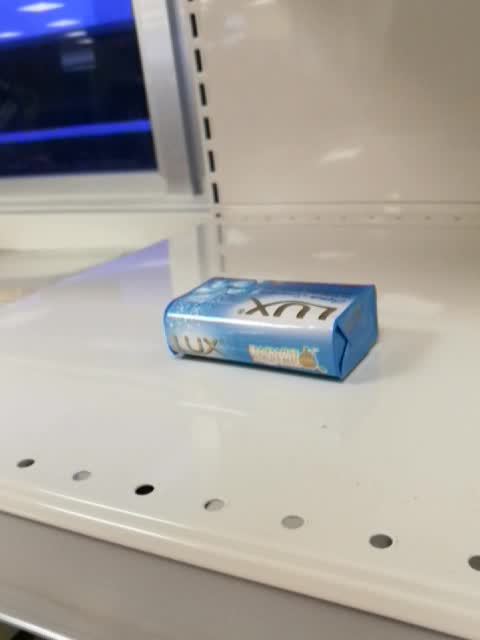soap: (160, 274, 380, 383)
